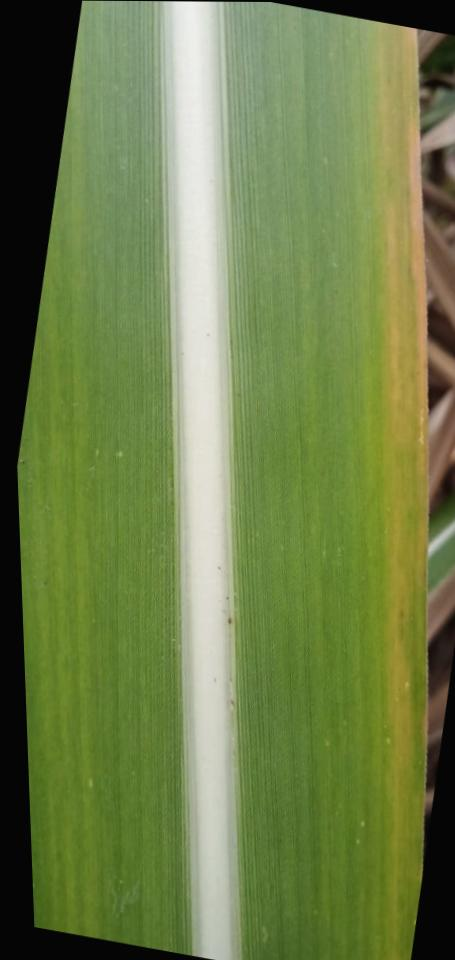Yellow: (383, 28, 428, 810)
